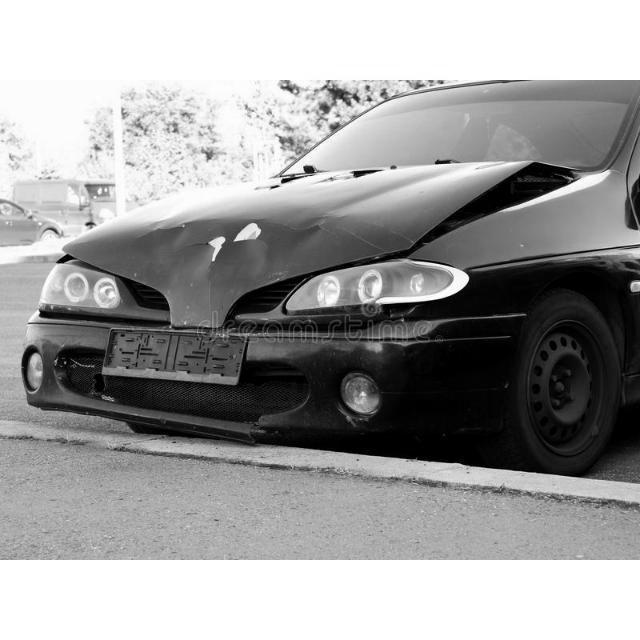bonnet-dent: (41, 160, 403, 308)
front-bumper-dent: (19, 307, 513, 447)
